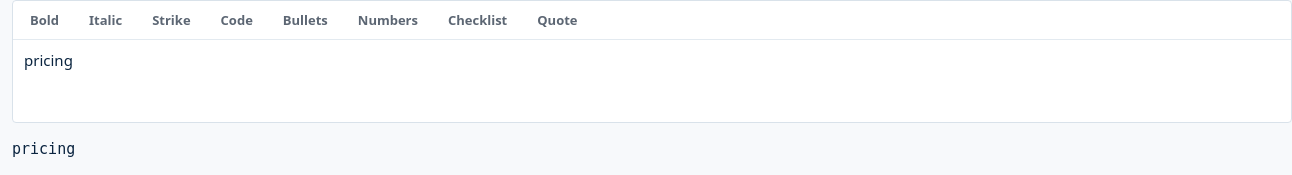
the rich composer › writes what Bold promises
Press a in the field named "Body", box x1=24 y1=50 x2=73 y2=70
Click the button "Bold" at (44, 20), box x1=17 y1=5 x2=72 y2=35
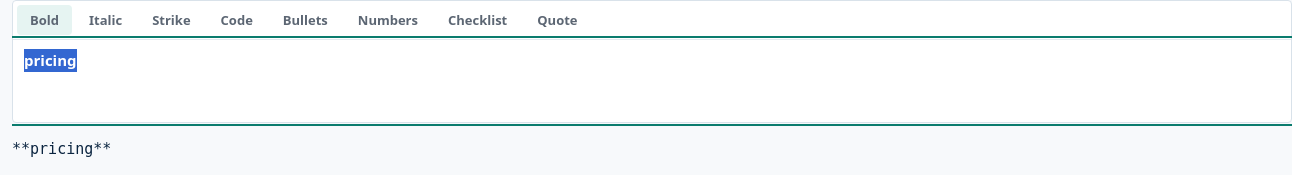
Check: the text with test id "markdown" reads "**pricing**", box x1=12 y1=140 x2=111 y2=158
